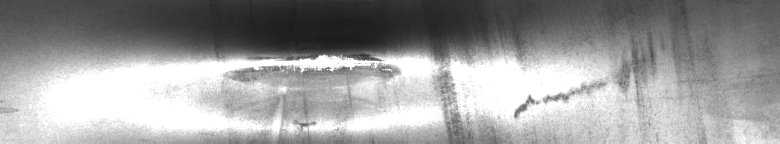ke: (204, 44, 660, 136)
